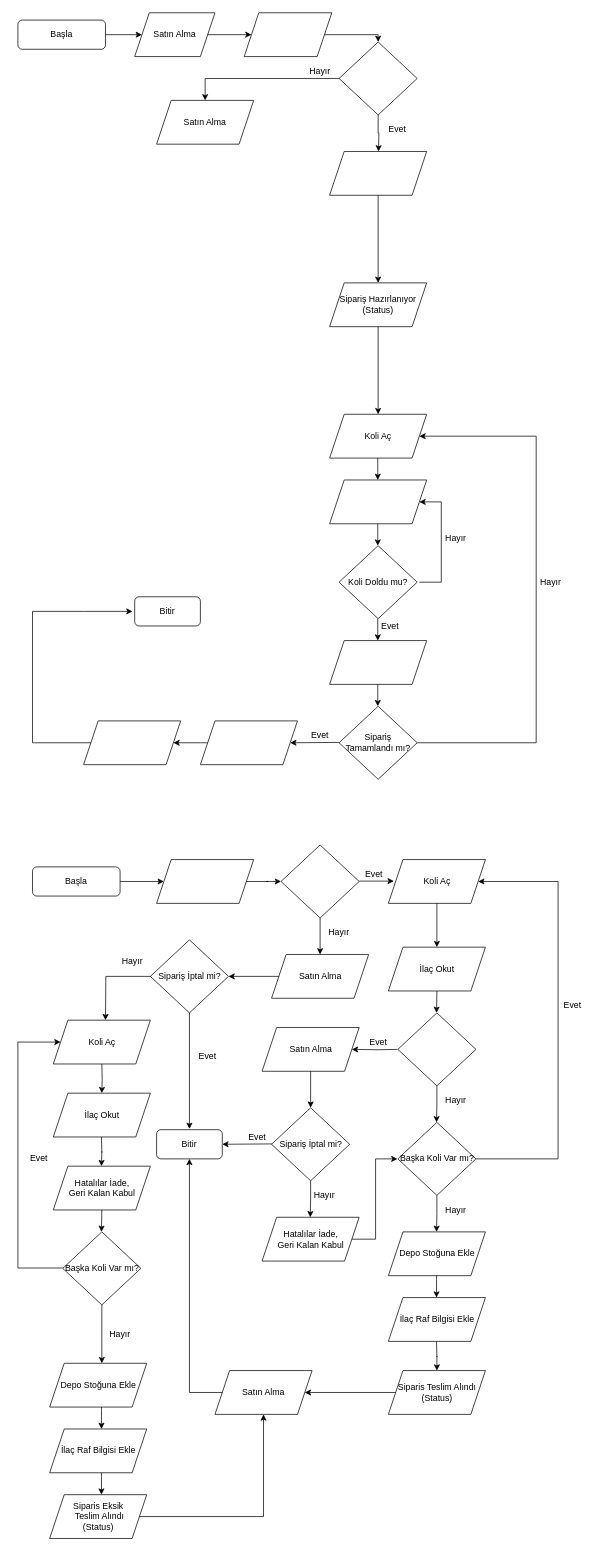
Image size: 600x1551. Some labels were removed from this diagram. Each missing label, with the box of its shape:
Depo-Stok: (329, 151, 427, 195)
Depoda Stok Var Mı?: (338, 41, 417, 115)
İlaç Cinsi ve Sayısı Doğru mu?: (280, 844, 359, 918)
İlaç Listesi - Koli İçeriği Kontrol: (156, 859, 254, 903)
İlaç Okut, Koliye Ekle: (329, 479, 427, 524)
Koli Kapat: (329, 640, 427, 684)
Lojistik Bilgisi Ekle: (83, 720, 181, 765)
Sipariş Hazır (Status): (200, 720, 297, 765)
Sipariş Seç: (243, 12, 332, 57)
Yanlış İlaç Var mı?: (397, 1012, 476, 1086)
